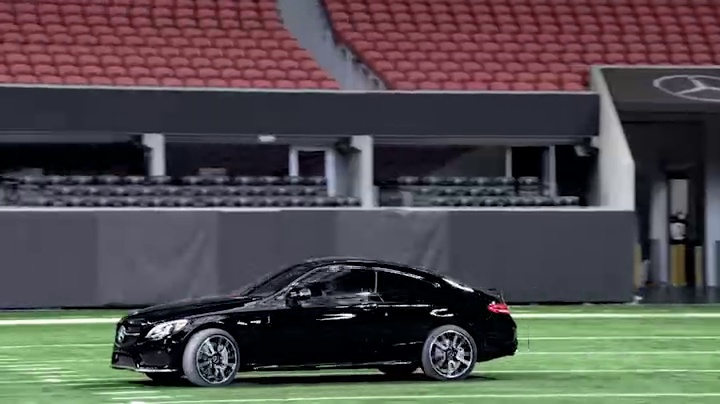amg: (107, 252, 521, 386)
